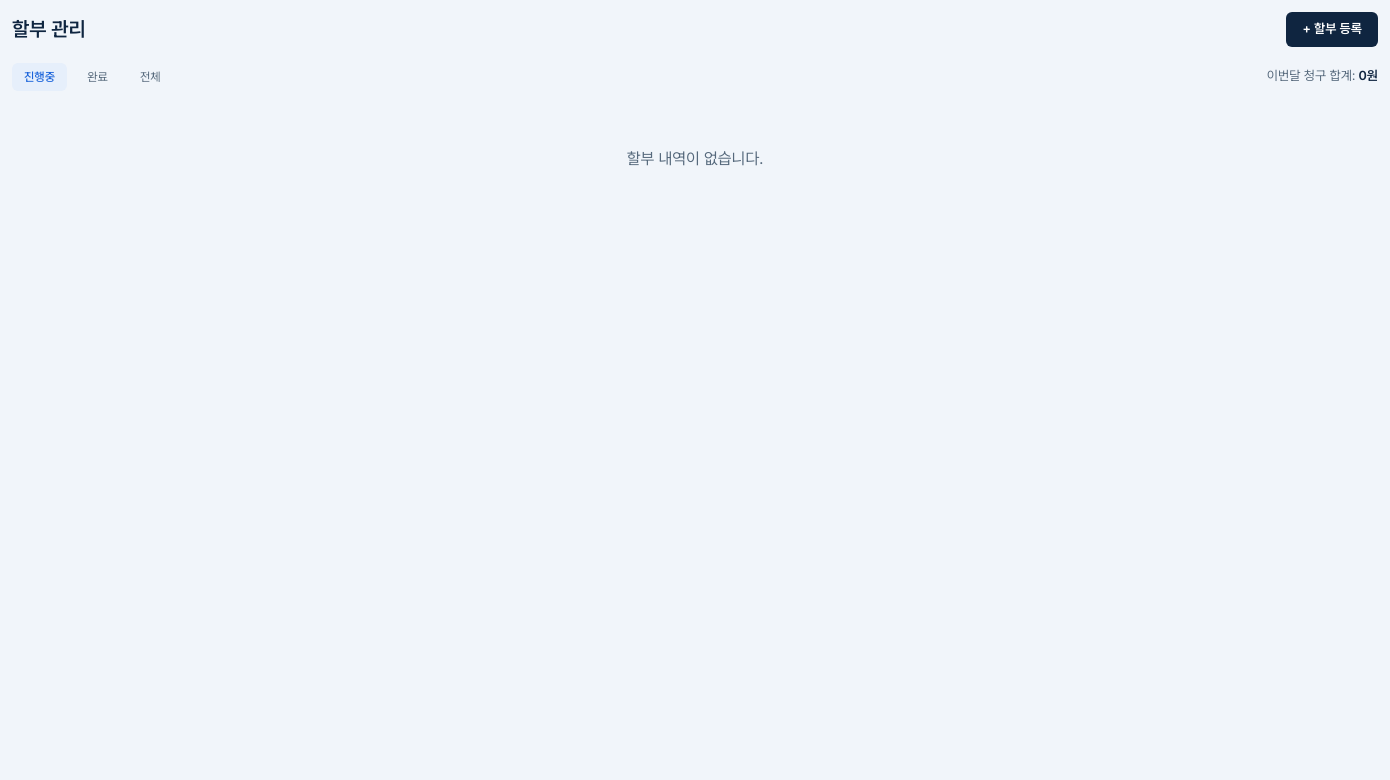
Scenario: 청구월 계산 근거 문구 › 카드 정보가 없으면 그냥 카드라고 적는다
This screenshot has width=1390, height=780.
Click the button "+ 할부 등록". click: (1332, 29)
box: [1286, 12, 1378, 47]
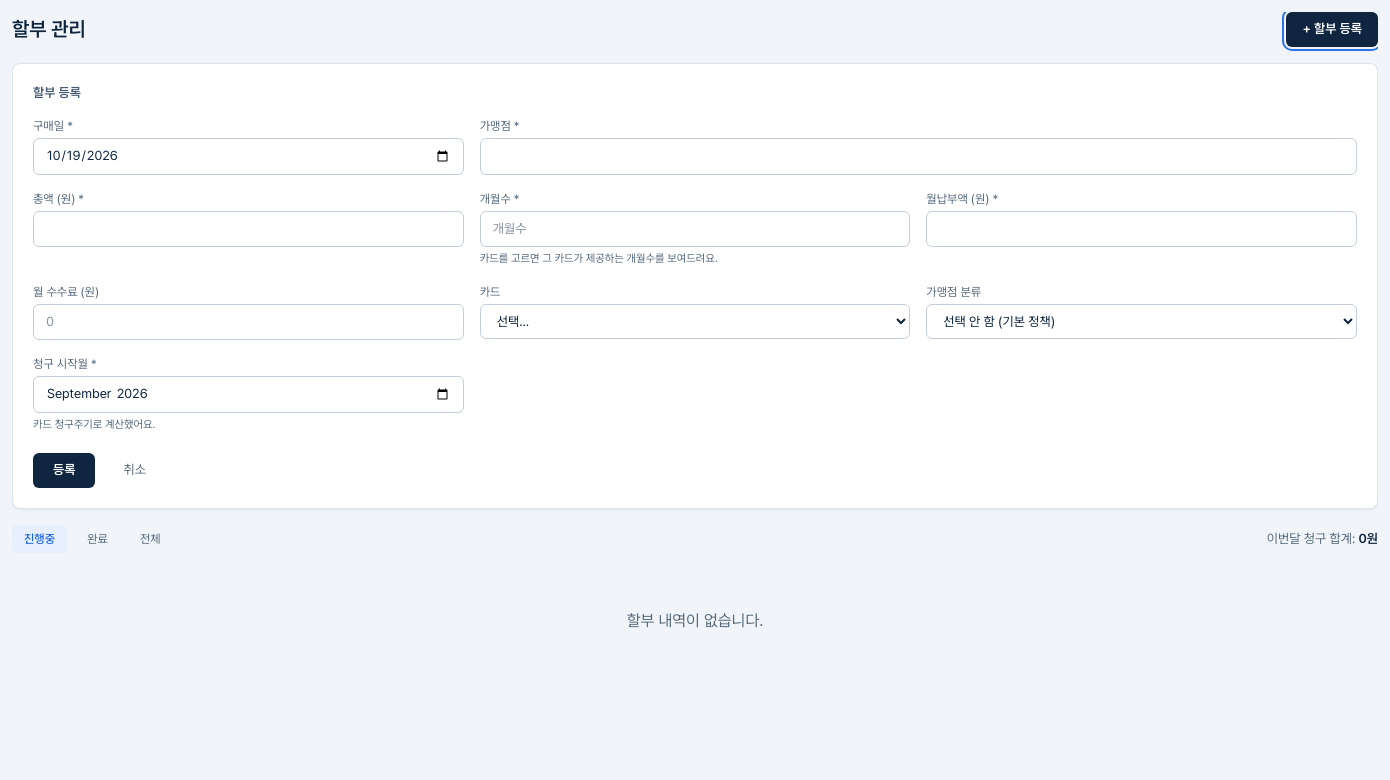
Expected: the text "카드 청구주기로 계산했어요." is shown, [33, 418, 155, 431]
